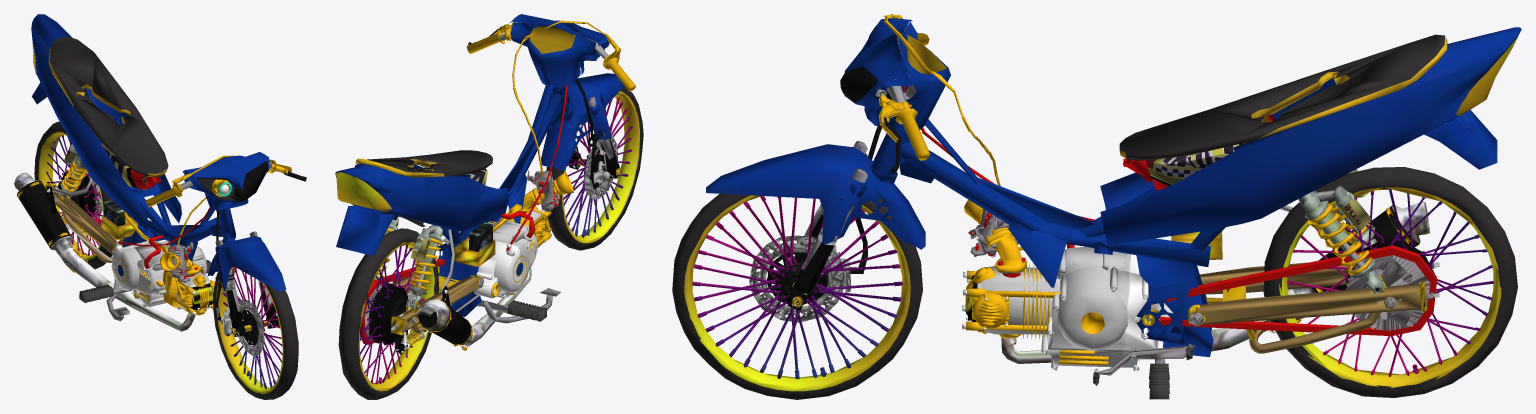
The model's file is Jupiter Z.fbx.
3 renders of one model, left to right at view 1: azimuth 30°, elevation 25°; view 2: azimuth 150°, elevation 25°; view 3: azimuth 270°, elevation 25°, orthographic. The views are drawn at different scales.
Visible parts, largest first — view 1: bodi_mesin.002_mesin.003, ban_depan_wheel_front.001_wheel_front.002, steer_default.003_default.008, axle_depan_mudguard.002_mudguard.006, ban_belakang_wheel_rear.001_wheel_rear.001, rear_forks_rear.001_forks_rear.006; view 2: bodi_mesin.002_mesin.003, ban_belakang_wheel_rear.001_wheel_rear.001, ban_depan_wheel_front.001_wheel_front.002, steer_default.003_default.008, axle_depan_mudguard.002_mudguard.006, rear_forks_rear.001_forks_rear.006; view 3: bodi_mesin.002_mesin.003, ban_belakang_wheel_rear.001_wheel_rear.001, ban_depan_wheel_front.001_wheel_front.002, rear_forks_rear.001_forks_rear.006, axle_depan_mudguard.002_mudguard.006, steer_default.003_default.008.
Part boxes in pixels (<box>): bodi_mesin.002_mesin.003: <box>14,14,235,331</box>; ban_depan_wheel_front.001_wheel_front.002: <box>213,267,298,399</box>; steer_default.003_default.008: <box>145,152,306,254</box>; axle_depan_mudguard.002_mudguard.006: <box>207,210,286,339</box>; ban_belakang_wheel_rear.001_wheel_rear.001: <box>34,121,115,269</box>; rear_forks_rear.001_forks_rear.006: <box>45,144,129,262</box>; bodi_mesin.002_mesin.003: <box>335,20,605,350</box>; ban_belakang_wheel_rear.001_wheel_rear.001: <box>338,228,438,399</box>; ban_depan_wheel_front.001_wheel_front.002: <box>546,86,643,250</box>; steer_default.003_default.008: <box>466,14,635,122</box>; axle_depan_mudguard.002_mudguard.006: <box>539,50,624,193</box>; rear_forks_rear.001_forks_rear.006: <box>360,218,483,354</box>; bodi_mesin.002_mesin.003: <box>872,15,1521,399</box>; ban_belakang_wheel_rear.001_wheel_rear.001: <box>1263,167,1517,397</box>; ban_depan_wheel_front.001_wheel_front.002: <box>672,193,922,399</box>; rear_forks_rear.001_forks_rear.006: <box>1151,169,1439,353</box>; axle_depan_mudguard.002_mudguard.006: <box>706,93,925,310</box>; steer_default.003_default.008: <box>840,14,950,197</box>.
Bounding box in the file's own units: 0.7144 × 2.07 × 0.9922.
55 materials, 44 textured.
